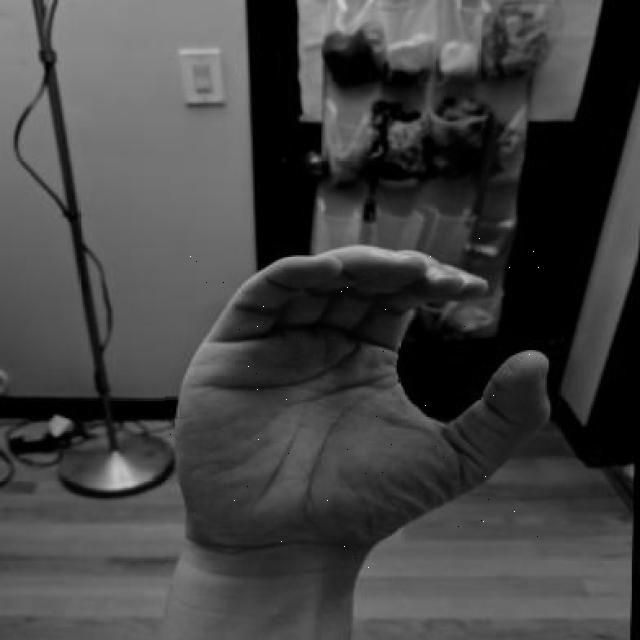C: (165, 238, 565, 568)
